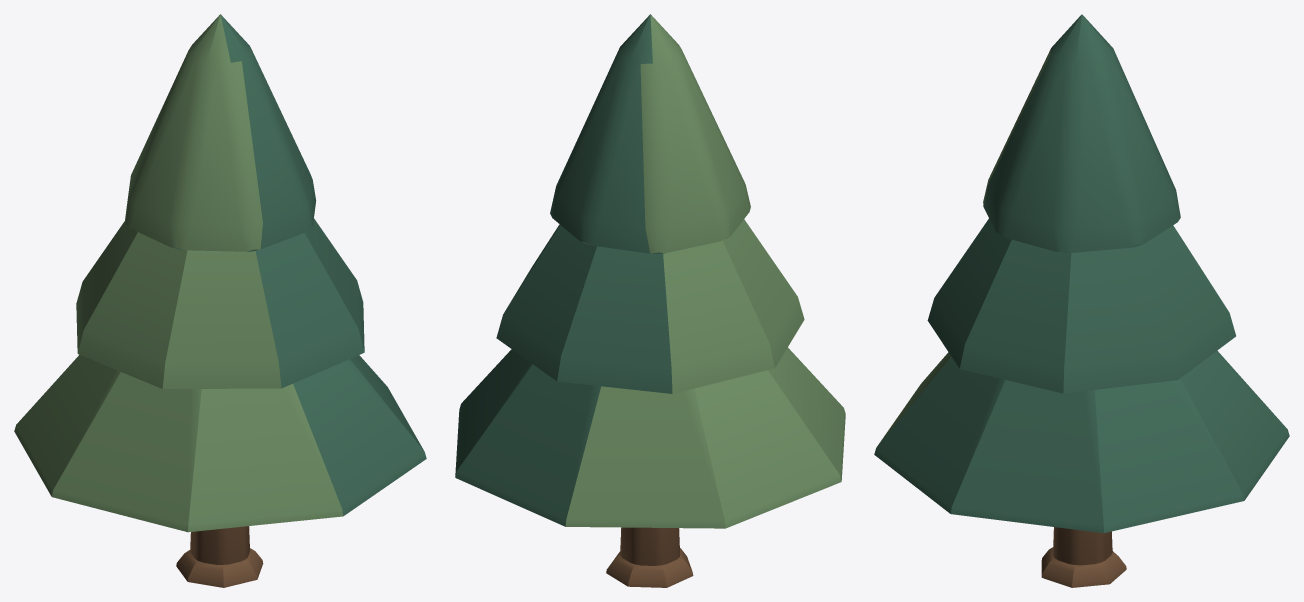
Rendered from Tree_A.fbx.
3 renders of one model, left to right at view 1: azimuth 30°, elevation 25°; view 2: azimuth 150°, elevation 25°; view 3: azimuth 270°, elevation 25°, orthographic.
Visible parts, largest first — view 1: Tree_A; view 2: Tree_A; view 3: Tree_A.
Part boxes in pixels (x1,y1,x2,y2): Tree_A: (14,14,426,587); Tree_A: (455,14,845,587); Tree_A: (874,14,1289,587).
Bounding box in the file's own units: 1.9 × 2.81 × 1.9.
